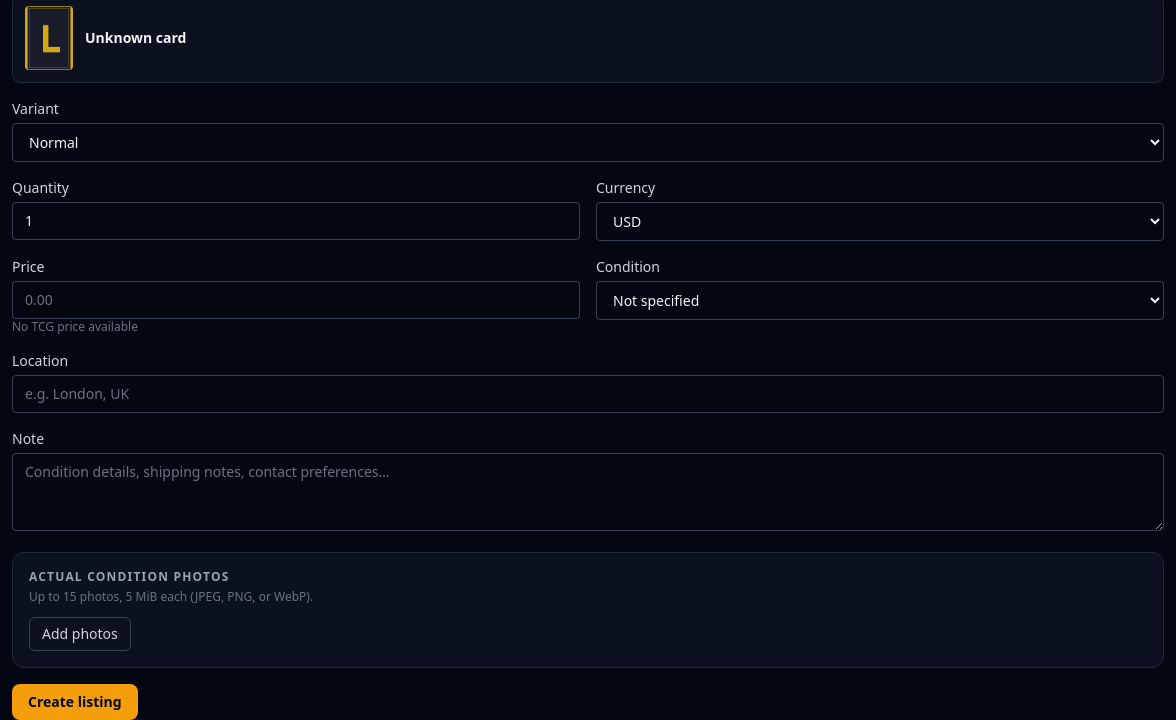
Test case: ListingForm › requires a card before creating
Step 1. Click the button "Create listing" → (75, 702), box [12,684,138,719]
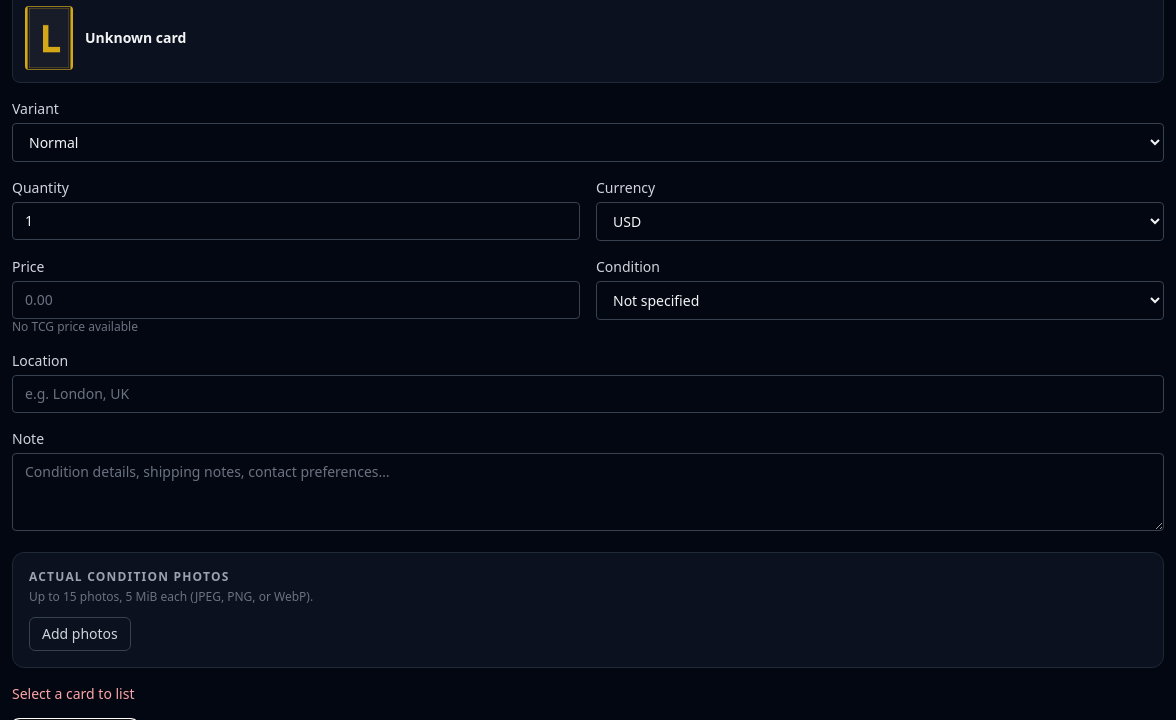
Now the text "Select a card to list" is shown, box [12,684,134,703]
